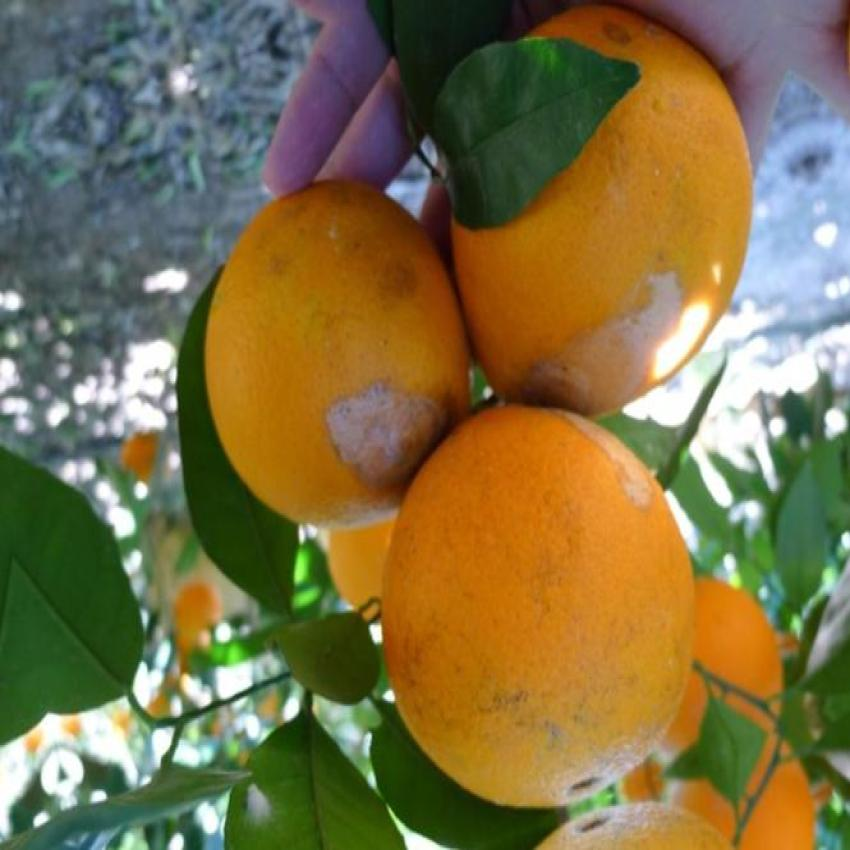Mal estado: (433, 34, 774, 466), (375, 410, 710, 830), (195, 161, 469, 559)
